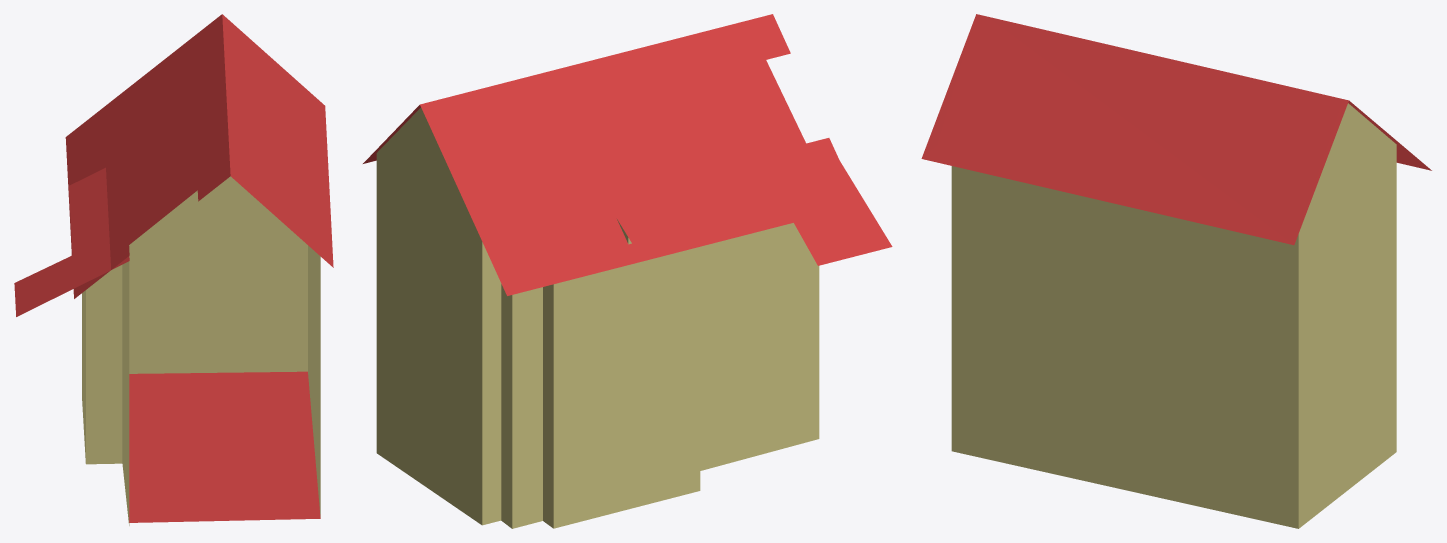
3 views of the same model, side by side, from view 1: azimuth 30°, elevation 25°; view 2: azimuth 150°, elevation 25°; view 3: azimuth 270°, elevation 25° (orthographic). The views are drawn at different scales.
Size of the model in its own units: 24.03 by 23.95 by 20.4.
